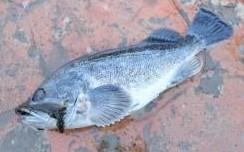fish: (15, 8, 234, 131)
